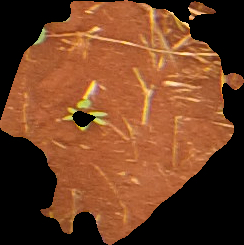soil: (2, 1, 244, 244)
